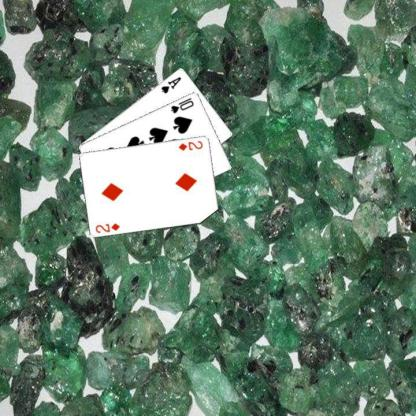10S: (168, 95, 195, 114)
2D: (93, 220, 121, 234), (176, 138, 204, 151)
AS: (158, 74, 183, 94)
